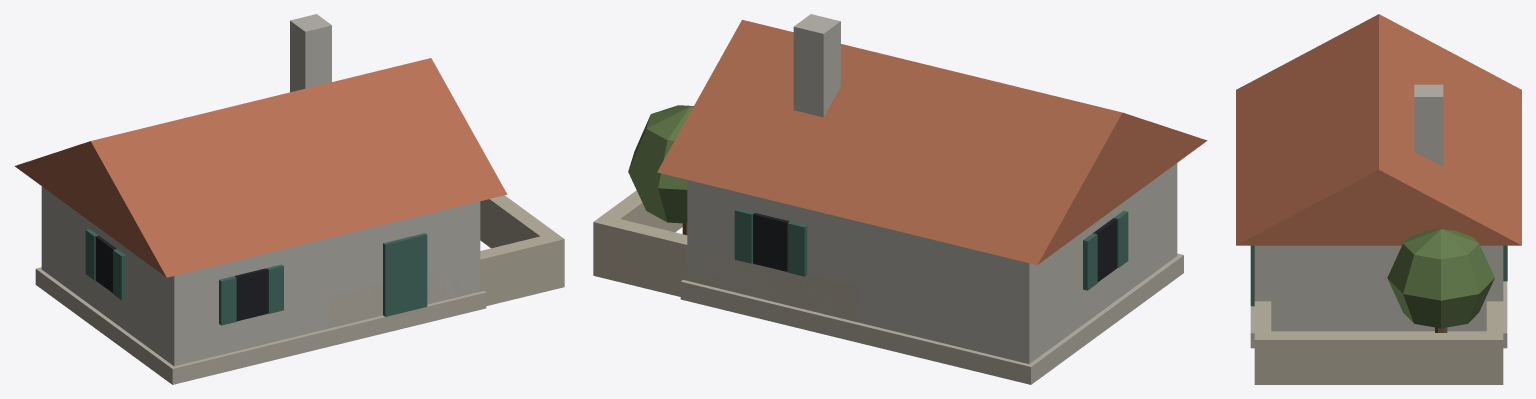
Rendered from a15_house_4.glb.
3 renders of one model, left to right at view 1: azimuth 30°, elevation 25°; view 2: azimuth 150°, elevation 25°; view 3: azimuth 270°, elevation 25°, orthographic. The views are drawn at different scales.
Visible parts, largest first — view 1: body; view 2: body; view 3: body.
Boxes of the visible parts, <box> form: body: <box>14,14,564,384</box>; body: <box>593,14,1207,384</box>; body: <box>1236,14,1521,384</box>.
Bounding box in the file's own units: 1 × 0.5521 × 0.6479.
